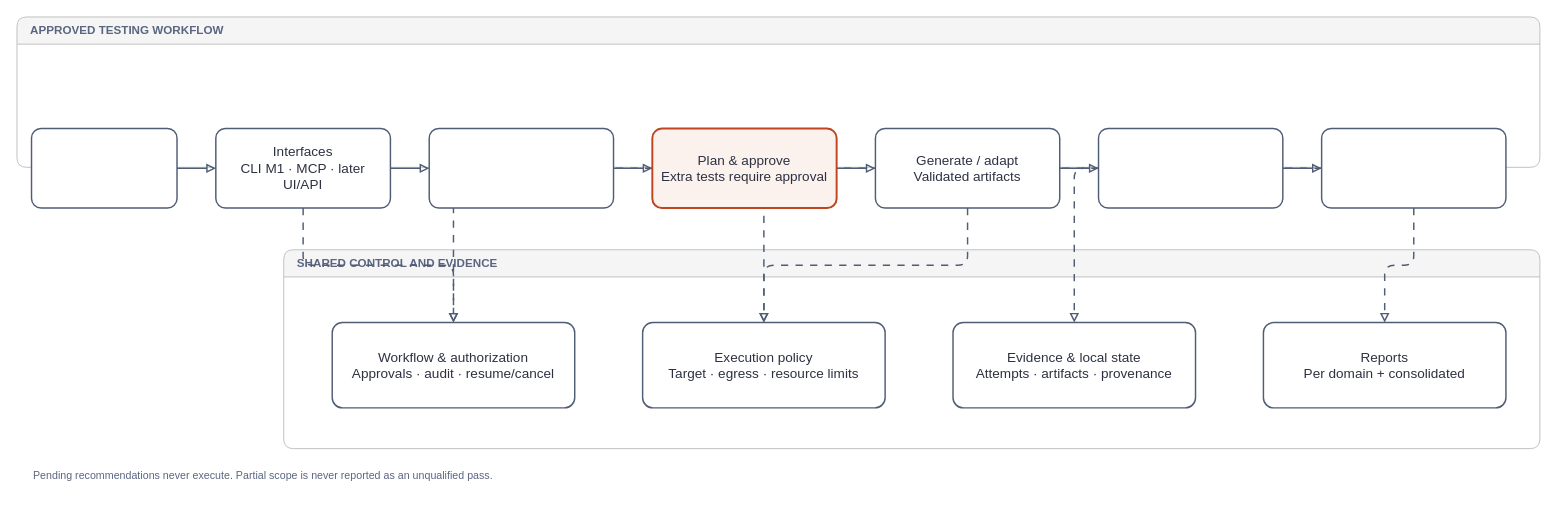
Image size: 1557x509. Some labels were removed from this diagram. The centre of each missing label's shape, as x and y in pixels:
"Evaluate & report Deterministic results" belongs at point (1413, 167).
"Inspect & resolve scope Facts · applicability · risk" belongs at point (521, 167).
"Isolated worker Approved checks only" belongs at point (1190, 167).
"Project owner / tester Selects one or more test types" belongs at point (103, 167).
